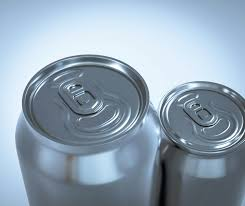can: (15, 53, 245, 206)
